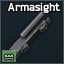Armasight Vulcan universal base: (0, 0, 64, 64)
